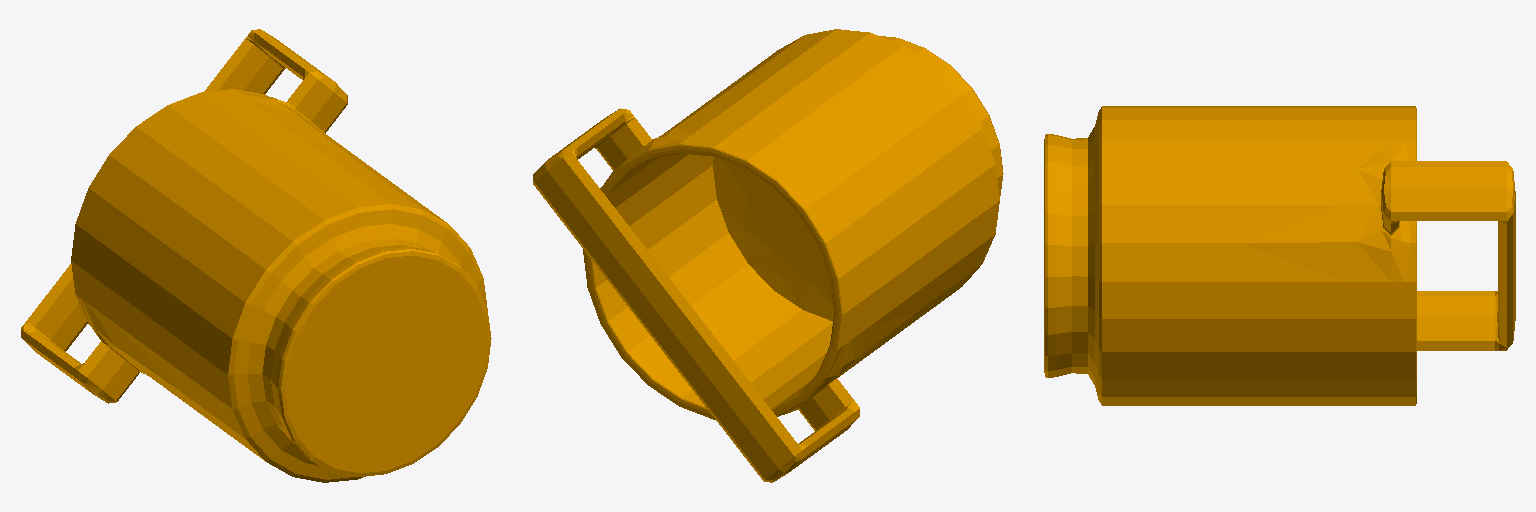
robot.urdf — 154:
<?xml version="1.0" ?>
<robot name="154">
  <link name="body">
    <visual>
      <geometry>
        <mesh filename="../shapes/154.obj"/>
      </geometry>
    </visual>
    <collision>
      <geometry>
        <mesh filename="../shapes/154.obj"/>
      </geometry>
    </collision>
  </link>
</robot>

--- Render facts (derived) ---
Views: 3 orthographic renders of the robot side by side, from view 1: azimuth 30°, elevation 25°; view 2: azimuth 150°, elevation 25°; view 3: azimuth 270°, elevation 25°.
Robot: 154 — 1 links, 0 joints (none); root link body; default pose: every joint at zero.
Visible links, largest first — view 1: body; view 2: body; view 3: body.
Boxes of the visible links, box(x1,y1,x2,y2) form: body: box(21, 29, 491, 482); body: box(533, 29, 1003, 482); body: box(1044, 106, 1515, 405).
Size in the robot's own frame: 1.88 by 2.84 by 1.88 metres.
Meshes: 1 distinct files referenced, 1 mesh visuals loaded (1 OBJ).